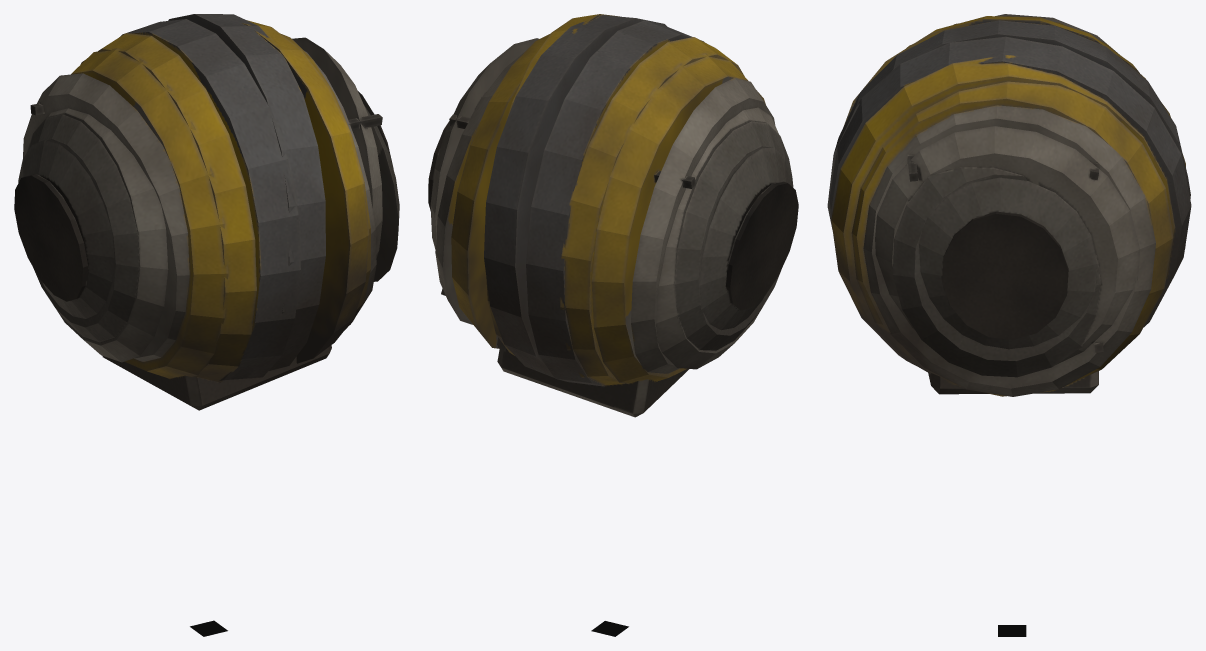
The model's file is ord_martyr_wreck.fbx.
3 renders of one model, left to right at view 1: azimuth 30°, elevation 25°; view 2: azimuth 150°, elevation 25°; view 3: azimuth 270°, elevation 25°, orthographic.
Visible parts, largest first — view 1: shell_bar, base_bar; view 2: shell_bar, base_bar; view 3: shell_bar, base_bar.
Part boxes in pixels (x1,y1,x2,y2): shell_bar: (14, 14, 399, 382); base_bar: (102, 345, 331, 410); shell_bar: (428, 14, 798, 386); base_bar: (497, 341, 689, 417); shell_bar: (827, 14, 1191, 396); base_bar: (928, 371, 1098, 394).
Size of the model in its own units: 263 by 466 by 257.
Materials: 2 (2 with a texture image).
